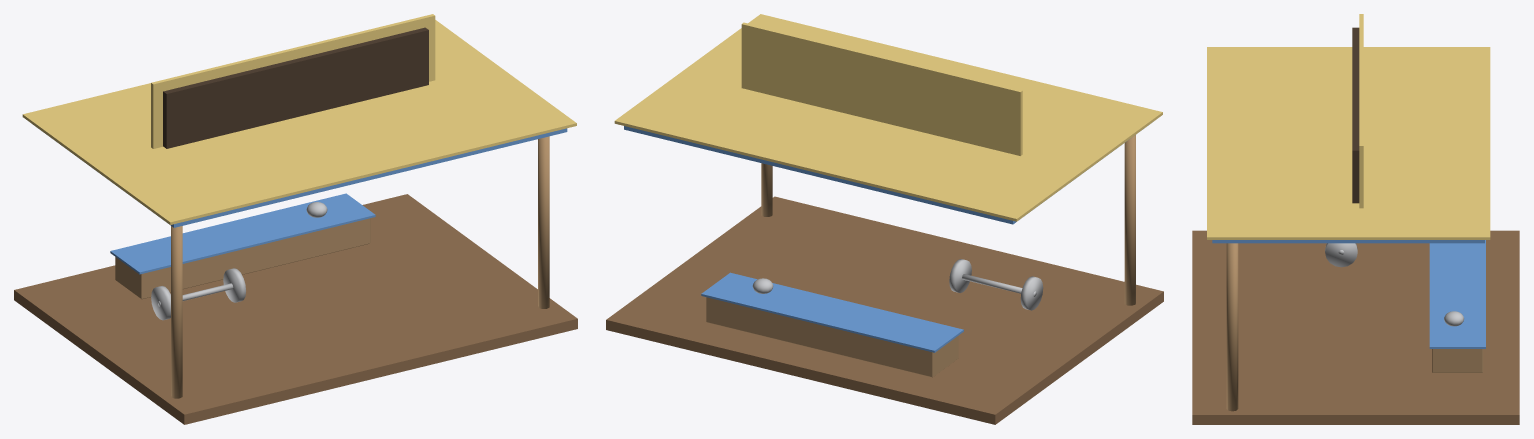
The model's file is TrainerStall.glb.
The picture shows the model from 3 angles, left to right: view 1: azimuth 30°, elevation 25°; view 2: azimuth 150°, elevation 25°; view 3: azimuth 270°, elevation 25°; orthographic projection. The views are drawn at different scales.
Visible parts, largest first — view 1: Floor, AwningTrim, Sign, CounterCloth, Counter, SignFrame, Post, Post.001, Awning, PlateR, PlateL; view 2: Floor, AwningTrim, SignFrame, CounterCloth, Counter, Post, Awning, Post.001, PlateL, PlateR; view 3: AwningTrim, Floor, CounterCloth, Post.001, Sign, Counter, Awning, SignFrame, PlateR.
Part boxes in pixels (x1,y1,x2,y2): Floor: [14, 194, 577, 424]; AwningTrim: [22, 20, 576, 224]; Sign: [163, 27, 428, 148]; CounterCloth: [110, 193, 375, 274]; Counter: [115, 218, 370, 299]; SignFrame: [151, 14, 435, 148]; Post: [171, 226, 182, 398]; Post.001: [538, 136, 549, 308]; Awning: [46, 128, 567, 227]; PlateR: [223, 268, 245, 302]; PlateL: [151, 286, 170, 320]; Floor: [606, 196, 1163, 424]; AwningTrim: [614, 14, 1162, 221]; SignFrame: [741, 22, 1022, 155]; CounterCloth: [701, 272, 963, 352]; Counter: [706, 297, 958, 377]; Post: [1124, 135, 1135, 305]; Awning: [624, 125, 1148, 224]; Post.001: [761, 163, 772, 216]; PlateL: [1020, 276, 1043, 310]; PlateR: [949, 259, 971, 292]; AwningTrim: [1207, 47, 1490, 239]; Floor: [1192, 230, 1519, 424]; CounterCloth: [1429, 240, 1485, 348]; Post.001: [1226, 243, 1238, 411]; Sign: [1352, 27, 1359, 203]; Counter: [1432, 349, 1483, 372]; Awning: [1212, 240, 1484, 243]; SignFrame: [1359, 14, 1363, 208]; PlateR: [1325, 243, 1357, 267].
Size of the model in its own units: 12.4 by 7.67 by 9.
